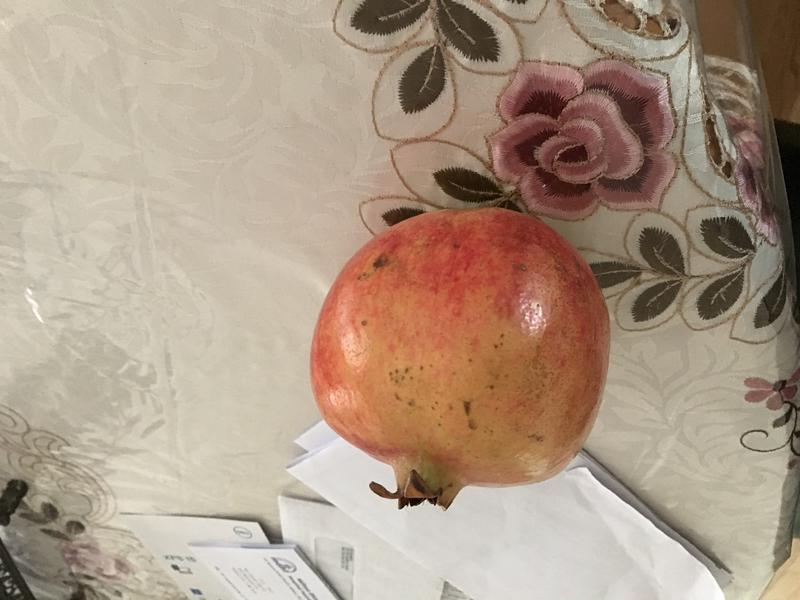pomegranate: (293, 194, 621, 522)
